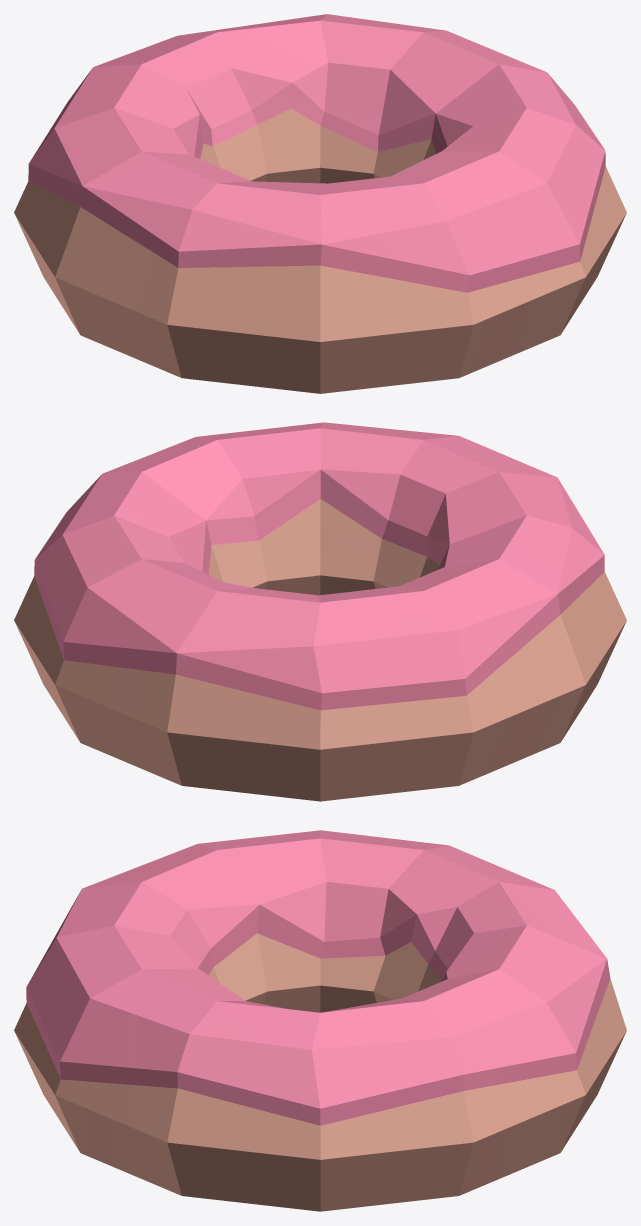
File: donut_001.glb
3 views of the same model, one above another, from view 1: azimuth 30°, elevation 25°; view 2: azimuth 150°, elevation 25°; view 3: azimuth 270°, elevation 25° (orthographic).
Visible parts, largest first — view 1: donut_001; view 2: donut_001; view 3: donut_001.
Part boxes in pixels (left/top/right/bottom): donut_001: left=14, top=14, right=626, bottom=393; donut_001: left=14, top=422, right=626, bottom=801; donut_001: left=14, top=830, right=626, bottom=1211.
Size of the model in its own units: 0.1069 by 0.0376 by 0.1069.
1 material, 1 textured.
